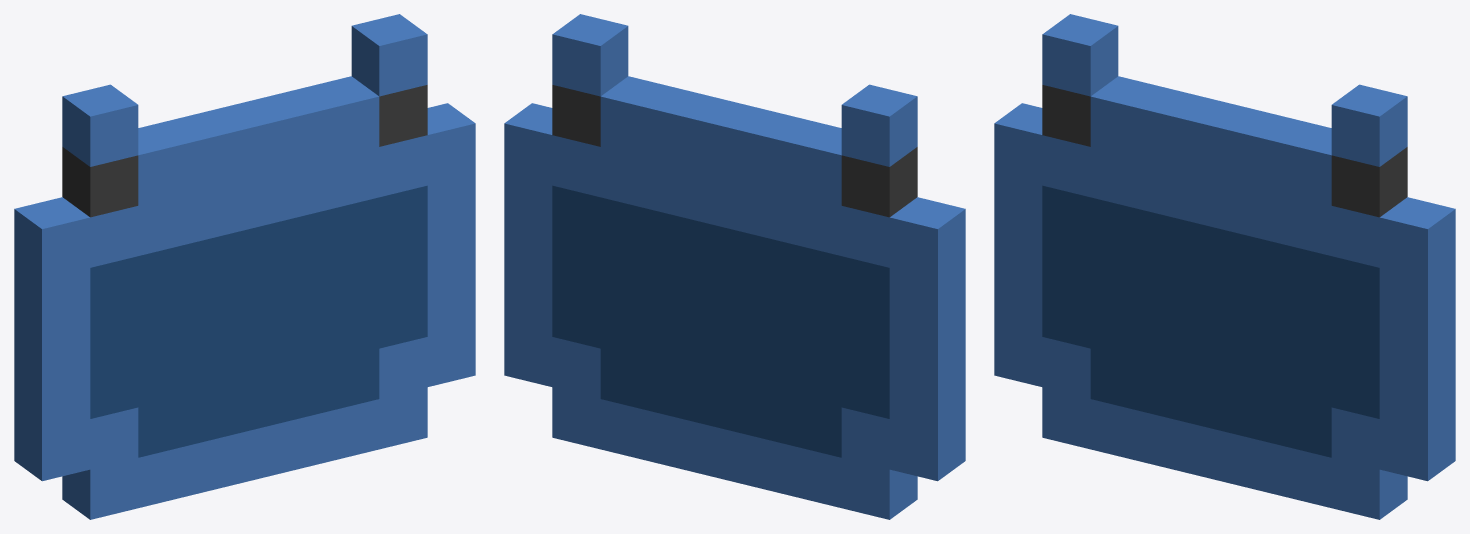
Rendered from bear2-5.obj.
3 views of the same model, side by side, from view 1: azimuth 30°, elevation 25°; view 2: azimuth 150°, elevation 25°; view 3: azimuth 330°, elevation 25° (orthographic).
Size of the model in its own units: 0.9 by 0.8 by 0.1.
Materials: 1 (1 with a texture image).
